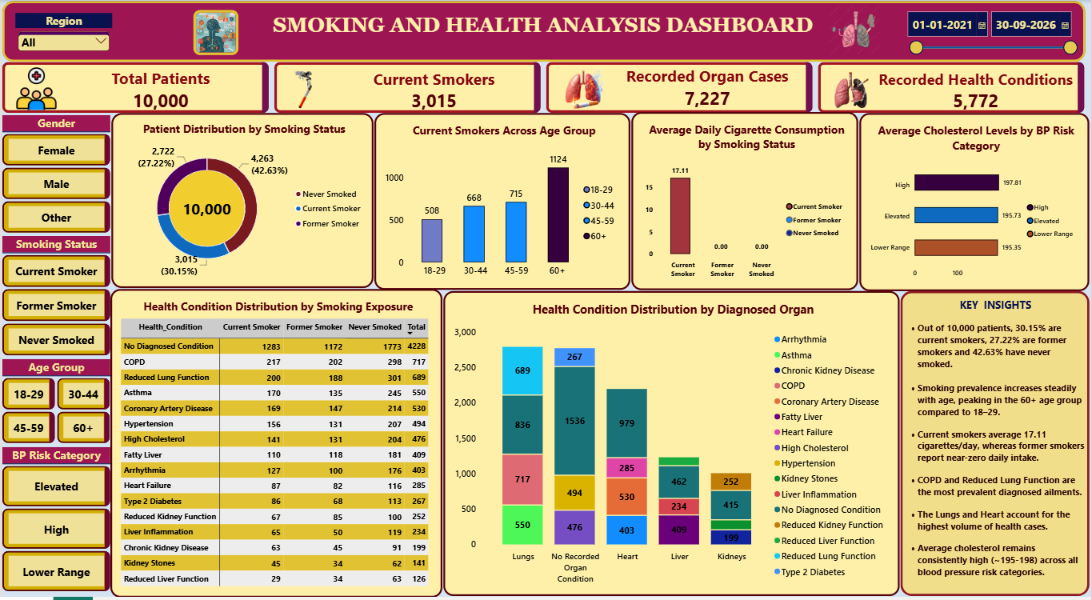

Layout of this report page (visuals, bound fields, positions):
{"tool":"powerbi","page":{"name":"Page 1","canvas":[1970,1080],"ordinal":0},"visuals":[{"type":"textbox","box":[10.9,0,752.8,242.5],"z":0},{"type":"shape","box":[0,2.3,1959.9,110],"z":1000},{"type":"textbox","box":[473.1,23,1011.6,72.4],"z":2000},{"type":"image","box":[345.6,18.5,81.4,81.4],"z":3000},{"type":"image","box":[1494.8,7.5,99.5,99.5],"z":4000},{"type":"cardVisual","fields":{"Data":["Smoking_Health_Analysis.Total No. of Patients","Smoking_Health_Analysis.Total No. of Current Smokers","Smoking_Health_Analysis.Total number of patients with a recorded organ category","Smoking_Health_Analysis.Total number of patients with a recorded health condition"]},"box":[0,112.2,1959.9,92.3],"z":5000},{"type":"clusteredColumnChart","title":"Average Daily Cigarette Consumption by Smoking Status","fields":{"Category":["Smoking_Health_Analysis.Smoking_Status"],"Series":["Smoking_Health_Analysis.Smoking_Status"],"Y":["Avg(Smoking_Health_Analysis.Cigarettes_Per_Day)"]},"box":[1138.3,202.7,410.8,322.1],"z":6000},{"type":"columnChart","title":"Health Condition Distribution by Diagnosed Organ ","fields":{"Category":["Smoking_Health_Analysis.Diagnosed_Organ"],"Series":["Smoking_Health_Analysis.Health_Condition"],"Y":["Count(Smoking_Health_Analysis.Patient_ID)"]},"box":[798.1,526.2,825.2,552],"z":7000},{"type":"donutChart","title":"Patient Distribution by Smoking Status","fields":{"Category":["Smoking_Health_Analysis.Smoking_Status"],"Y":["Count(Smoking_Health_Analysis.Patient_ID)"]},"box":[197.3,204.5,474.1,316.7],"z":8000},{"type":"clusteredBarChart","title":"Average Cholesterol Levels by BP Risk Category","fields":{"Category":["Smoking_Health_Analysis.BP Risk Category"],"Series":["Smoking_Health_Analysis.BP Risk Category"],"Y":["Avg(Smoking_Health_Analysis.Total_Cholesterol_mg_dL)"]},"box":[1550,204.5,416.2,322.1],"z":9000},{"type":"clusteredColumnChart","title":"Current Smokers Across Age Group","fields":{"Category":["Smoking_Health_Analysis.Age Group"],"Series":["Smoking_Health_Analysis.Age Group"],"Y":["Smoking_Health_Analysis.Total No. of Current Smokers"]},"box":[673.2,204.5,463.3,320.3],"z":10000},{"type":"pivotTable","title":"Health Condition Distribution by Smoking Exposure","fields":{"Columns":["Smoking_Health_Analysis.Smoking_Status"],"Rows":["Smoking_Health_Analysis.Health_Condition"],"Values":["Count(Smoking_Health_Analysis.Patient_ID)"]},"box":[195.4,522.6,600.8,558],"z":11000},{"type":"slicer","title":"Region","fields":{"Values":["Smoking_Health_Analysis.Region"]},"box":[23.5,23.5,175.5,77.8],"z":12000},{"type":"advancedSlicerVisual","fields":{"Values":["Smoking_Health_Analysis.Gender"]},"box":[0,208.1,195.4,213.5],"z":13000},{"type":"advancedSlicerVisual","title":"Smoking Status","fields":{"Values":["Smoking_Health_Analysis.Smoking_Status"]},"box":[0,427.1,195.4,217.2],"z":14000},{"type":"slicer","fields":{"Values":["Smoking_Health_Analysis.Diagnosis_Date"]},"box":[1630.5,15.7,318.5,86.9],"z":15000},{"type":"advancedSlicerVisual","title":"BP Risk Category","fields":{"Values":["Smoking_Health_Analysis.BP Risk Category"]},"box":[0,808.9,195.4,264.2],"z":16000},{"type":"advancedSlicerVisual","fields":{"Values":["Smoking_Health_Analysis.Age Group"]},"box":[0,649.7,195.4,153.8],"z":17000},{"type":"shape","box":[1625.1,526.6,342,551.9],"z":18000},{"type":"textbox","box":[1632.3,539.3,330,517],"z":19000}]}

Visuals, with their boxes in screenshot pixels (x1, y1, x2, y2), scaled from the page's 1970x1080 canvas onto the 1091x600 screenshot:
textbox: {"left": 6, "top": 0, "right": 423, "bottom": 135}
shape: {"left": 0, "top": 1, "right": 1085, "bottom": 62}
textbox: {"left": 262, "top": 13, "right": 822, "bottom": 53}
image: {"left": 191, "top": 10, "right": 236, "bottom": 56}
image: {"left": 828, "top": 4, "right": 883, "bottom": 59}
cardVisual - Smoking_Health_Analysis.Total No. of Patients x Smoking_Health_Analysis.Total No. of Current Smokers: {"left": 0, "top": 62, "right": 1085, "bottom": 114}
"Average Daily Cigarette Consumption by Smoking Status" clusteredColumnChart: {"left": 630, "top": 113, "right": 858, "bottom": 292}
"Health Condition Distribution by Diagnosed Organ " columnChart: {"left": 442, "top": 292, "right": 899, "bottom": 599}
"Patient Distribution by Smoking Status" donutChart: {"left": 109, "top": 114, "right": 372, "bottom": 290}
"Average Cholesterol Levels by BP Risk Category" clusteredBarChart: {"left": 858, "top": 114, "right": 1089, "bottom": 293}
"Current Smokers Across Age Group" clusteredColumnChart: {"left": 373, "top": 114, "right": 629, "bottom": 292}
"Health Condition Distribution by Smoking Exposure" pivotTable: {"left": 108, "top": 290, "right": 441, "bottom": 599}
"Region" slicer: {"left": 13, "top": 13, "right": 110, "bottom": 56}
advancedSlicerVisual - Smoking_Health_Analysis.Gender: {"left": 0, "top": 116, "right": 108, "bottom": 234}
"Smoking Status" advancedSlicerVisual: {"left": 0, "top": 237, "right": 108, "bottom": 358}
slicer - Smoking_Health_Analysis.Diagnosis_Date: {"left": 903, "top": 9, "right": 1079, "bottom": 57}
"BP Risk Category" advancedSlicerVisual: {"left": 0, "top": 449, "right": 108, "bottom": 596}
advancedSlicerVisual - Smoking_Health_Analysis.Age Group: {"left": 0, "top": 361, "right": 108, "bottom": 446}
shape: {"left": 900, "top": 293, "right": 1089, "bottom": 599}
textbox: {"left": 904, "top": 300, "right": 1087, "bottom": 587}
